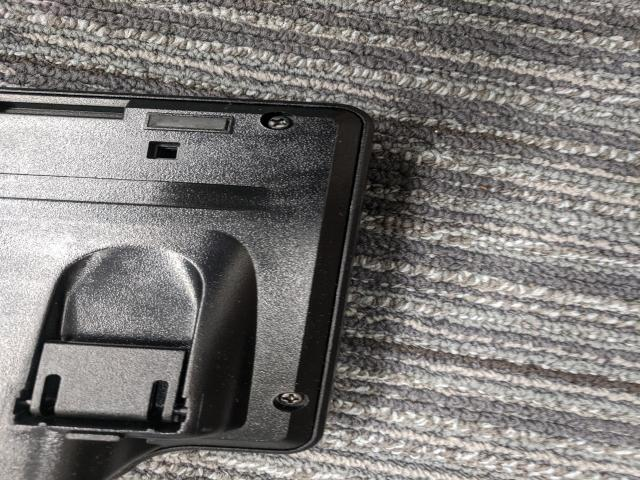CRS: (262, 112, 291, 130), (278, 391, 304, 405)
